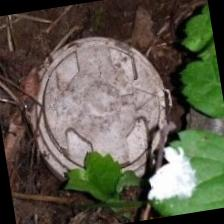M14: (25, 27, 176, 188)
